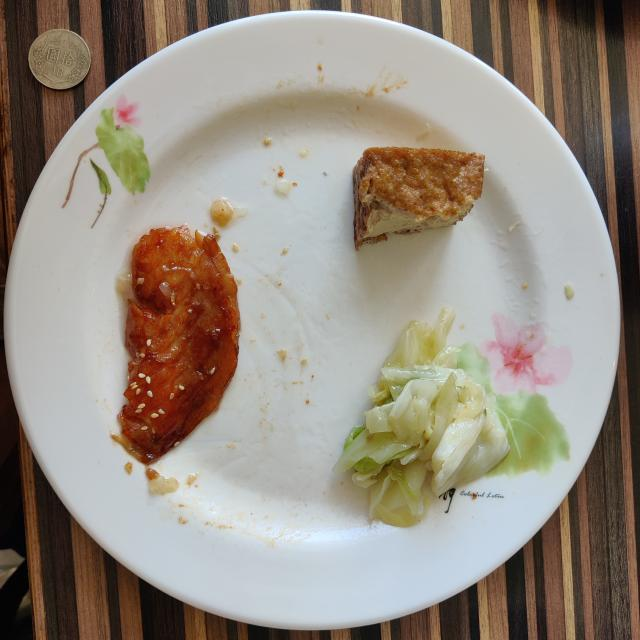Kabayaki sea bream fillet: (118, 226, 240, 465)
cabbage: (332, 308, 510, 528)
coin: (29, 29, 91, 90)
egg tofu: (352, 146, 485, 250)
